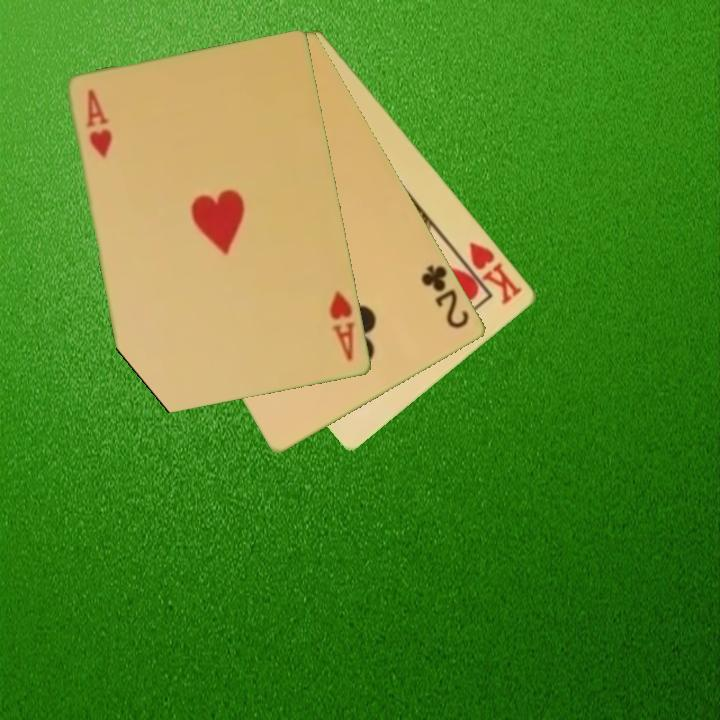2c: (418, 261, 473, 332)
Ah: (326, 287, 359, 365), (83, 85, 115, 162)
Kh: (453, 238, 526, 308)
